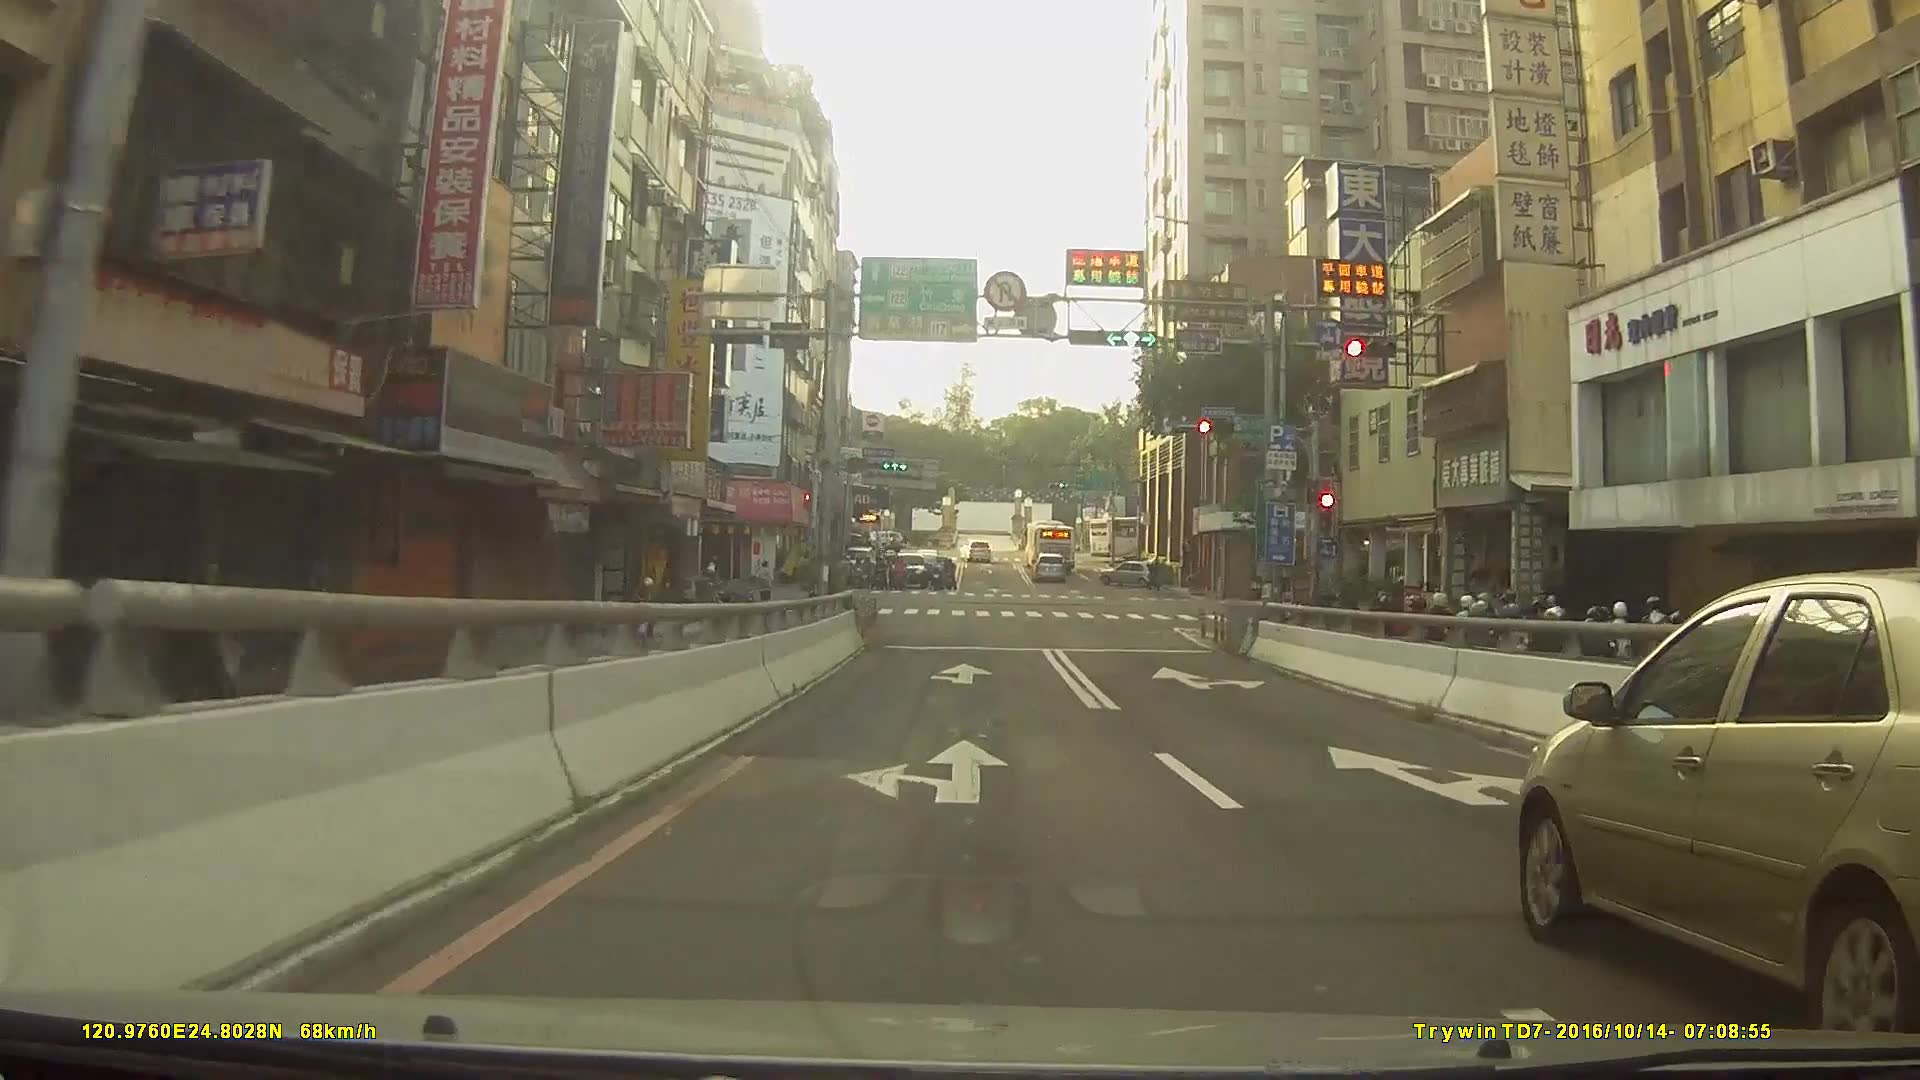rider: (631, 574, 670, 654)
vehicle: (1517, 566, 1920, 1042), (1088, 515, 1172, 562), (1097, 559, 1170, 591), (1026, 518, 1074, 566), (886, 554, 929, 590), (1032, 550, 1068, 581), (861, 527, 906, 550), (957, 538, 991, 563)
